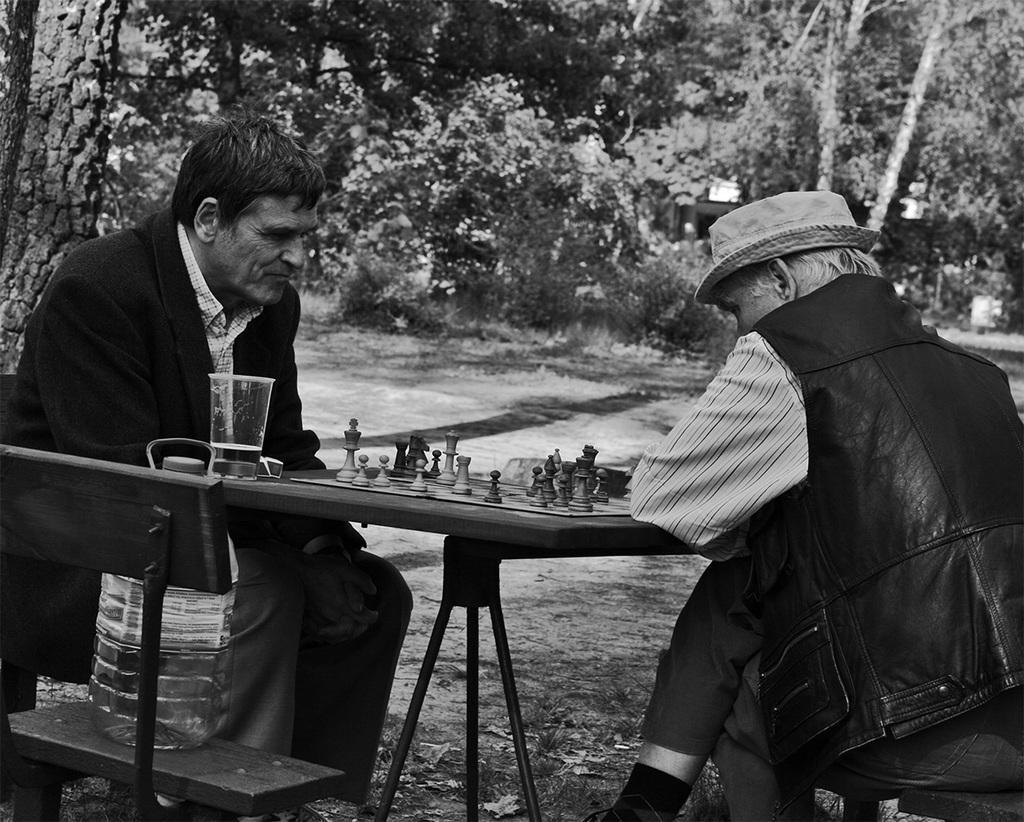Hat: (692, 186, 884, 306)
